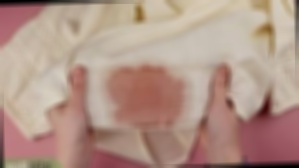wine: (103, 65, 182, 129)
